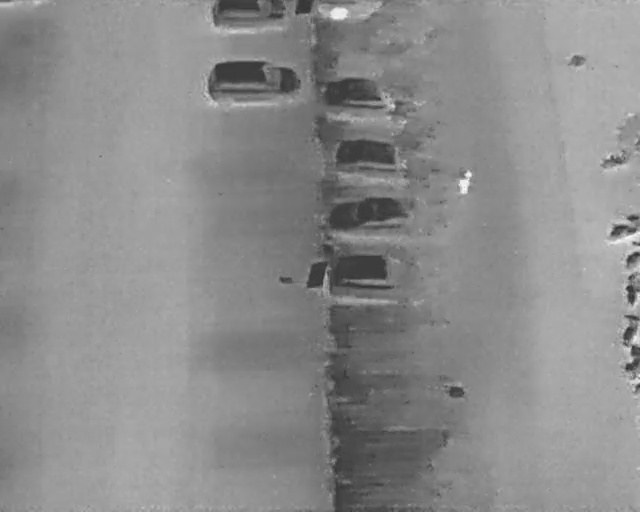Bicycle: (608, 213, 639, 241), (598, 149, 630, 174), (620, 312, 639, 348), (625, 271, 639, 307), (624, 344, 639, 375), (622, 250, 639, 269), (631, 380, 639, 397)
Car: (328, 253, 446, 303), (328, 194, 444, 238), (204, 57, 303, 107), (331, 135, 420, 182), (320, 73, 411, 118), (211, 0, 314, 30)
Person: (455, 167, 473, 197)
